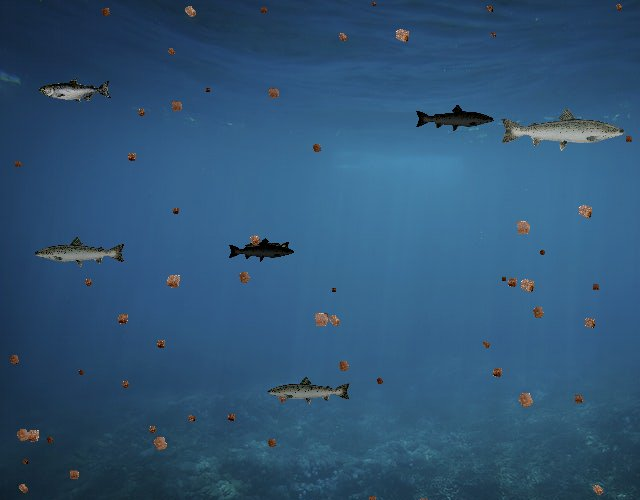Fish: (498, 106, 627, 152), (33, 236, 127, 270), (266, 375, 352, 406), (414, 104, 495, 133), (39, 77, 112, 104), (227, 239, 295, 263), (244, 238, 291, 255)
Pellet: (159, 267, 187, 295), (178, 0, 203, 24), (322, 308, 346, 332), (232, 265, 256, 289), (243, 229, 266, 252), (4, 350, 25, 371), (163, 43, 180, 60), (482, 2, 497, 16), (536, 246, 549, 259), (19, 455, 31, 467)
